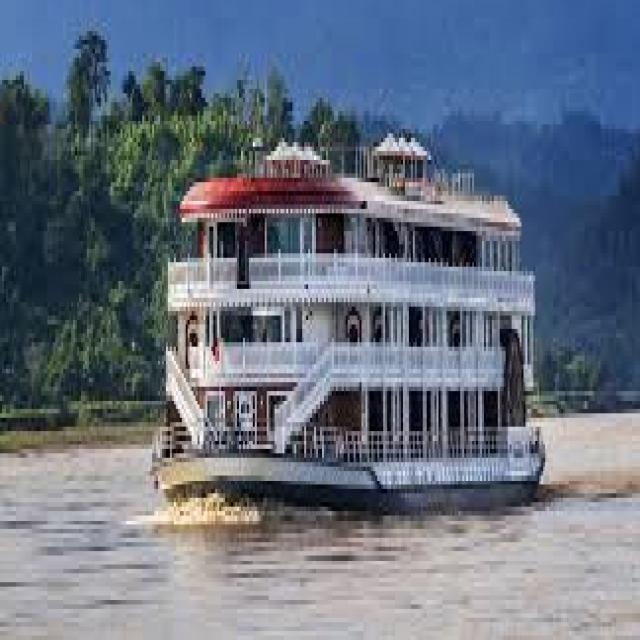houseboat: (142, 71, 550, 509)
